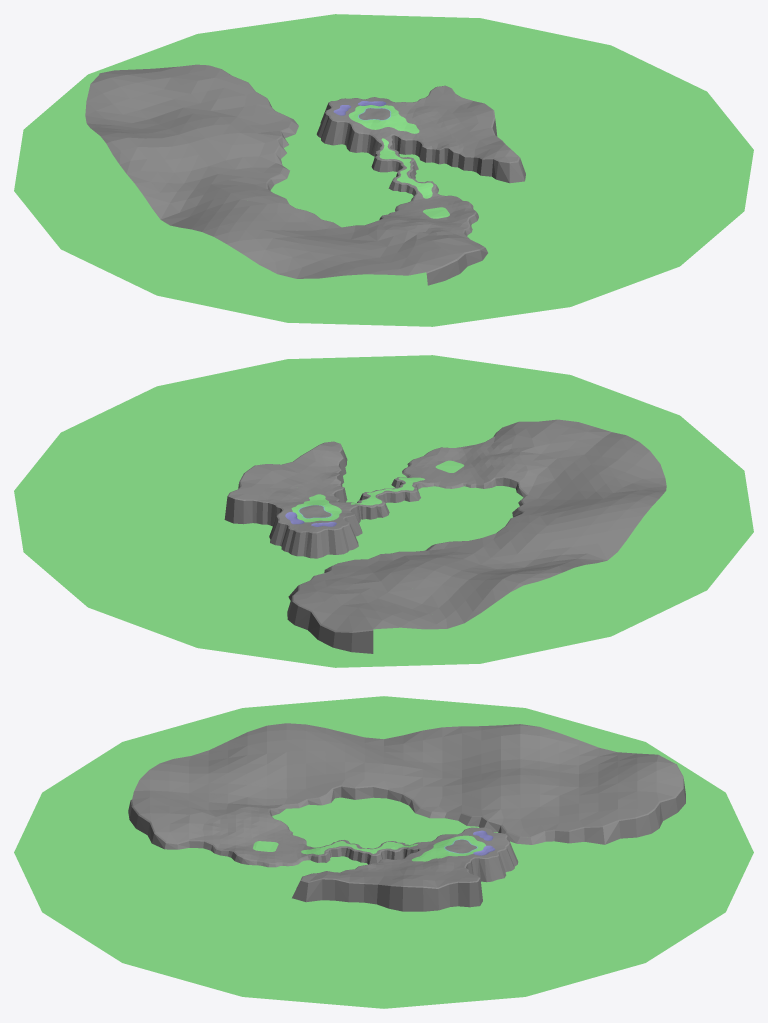
The model's file is glf_course_fc9.glb.
3 views of the same model, one above another, from view 1: azimuth 30°, elevation 25°; view 2: azimuth 150°, elevation 25°; view 3: azimuth 270°, elevation 25° (orthographic).
Visible parts, largest first — view 1: collision_0x0007, collision_0x0004, collision_0x000c, collision_0x0002, collision_0x0001; view 2: collision_0x0007, collision_0x0004, collision_0x000c, collision_0x0002, collision_0x0001; view 3: collision_0x0007, collision_0x0004, collision_0x000c, collision_0x0002, collision_0x0001.
Boxes of the visible parts, x1,y1,x2,y2 form: collision_0x0007: (14, 14, 753, 326); collision_0x0004: (85, 64, 518, 278); collision_0x000c: (99, 69, 525, 285); collision_0x0002: (326, 97, 474, 236); collision_0x0001: (348, 105, 449, 218); collision_0x0007: (14, 355, 753, 667); collision_0x0004: (229, 419, 666, 631); collision_0x000c: (224, 427, 527, 653); collision_0x0002: (268, 441, 527, 532); collision_0x0001: (291, 460, 464, 522); collision_0x0007: (14, 696, 753, 1008); collision_0x0004: (132, 723, 681, 887); collision_0x000c: (128, 764, 685, 911); collision_0x0002: (202, 806, 508, 871); collision_0x0001: (253, 835, 485, 861).
Size of the model in its own units: 7595 by 359 by 7595.
